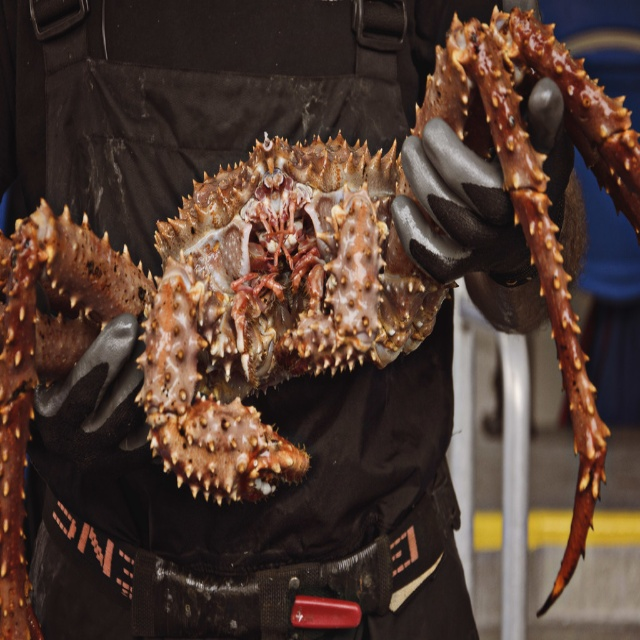Crab: (0, 4, 640, 640)
